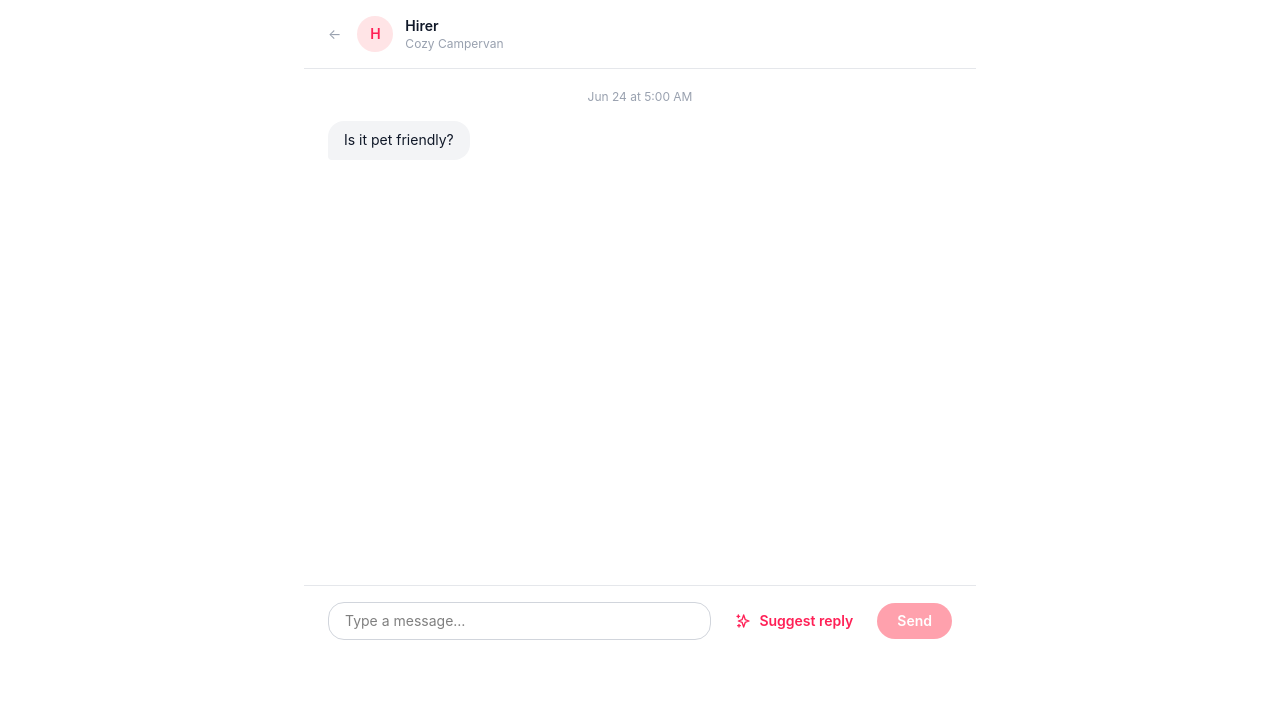
Test case: ChatPage — Suggest reply (owner) › keeps the existing draft and makes no request when the owner cancels the overwrite confirm
The image size is (1280, 720).
Type "my own words" into the text box with placeholder "Type a message…" at (520, 621), box [328,602,711,640]
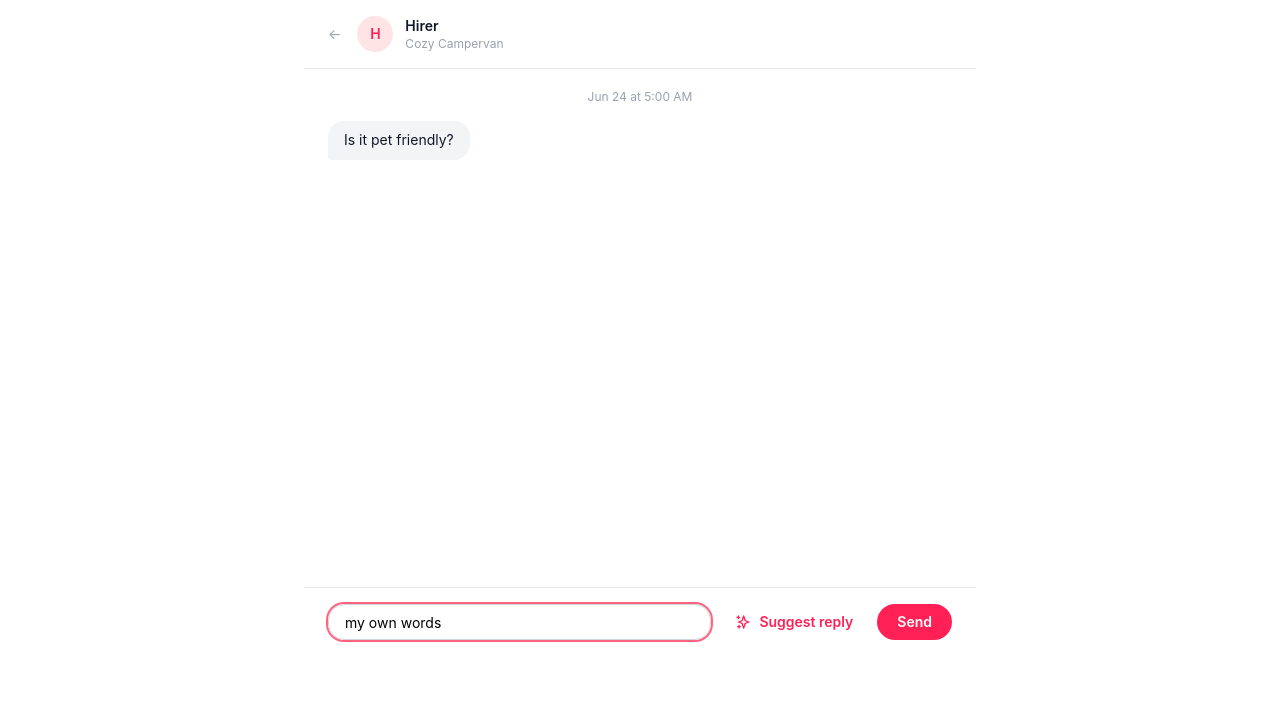
Click the button "Suggest reply" at (794, 622), box [723,604,865,640]
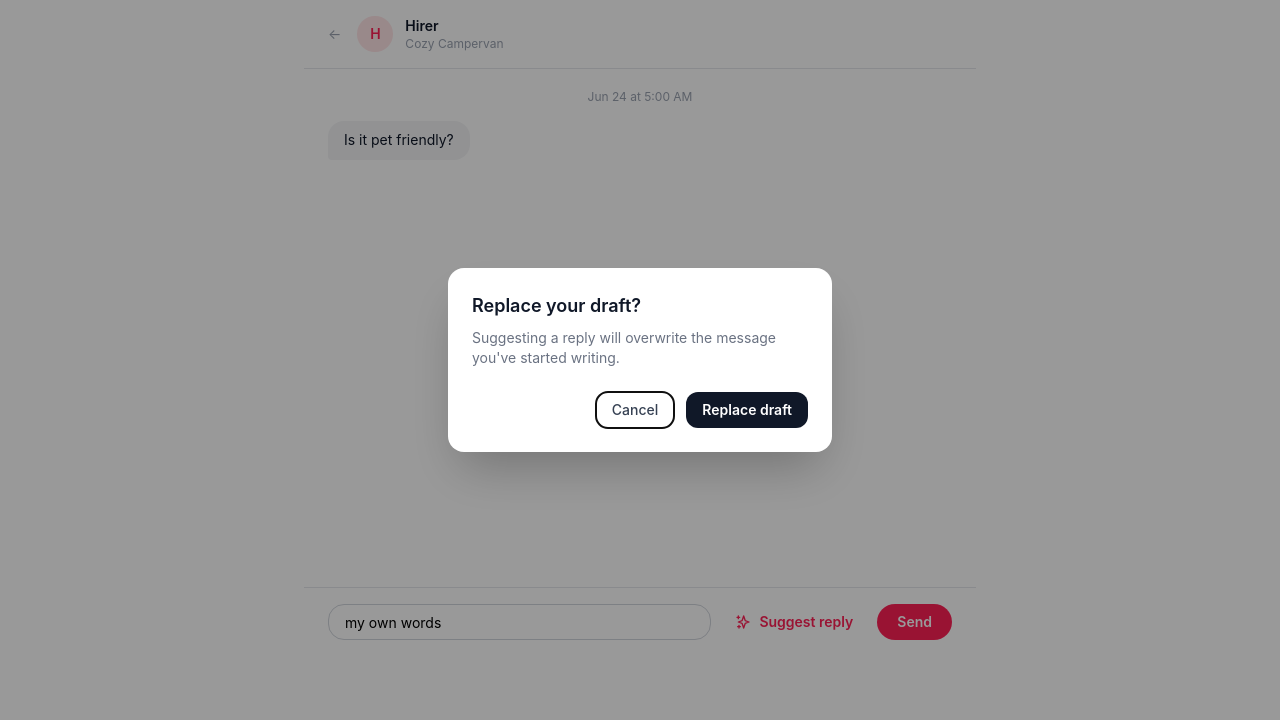
Click the button "Cancel" at (635, 410), box [596,392,674,428]
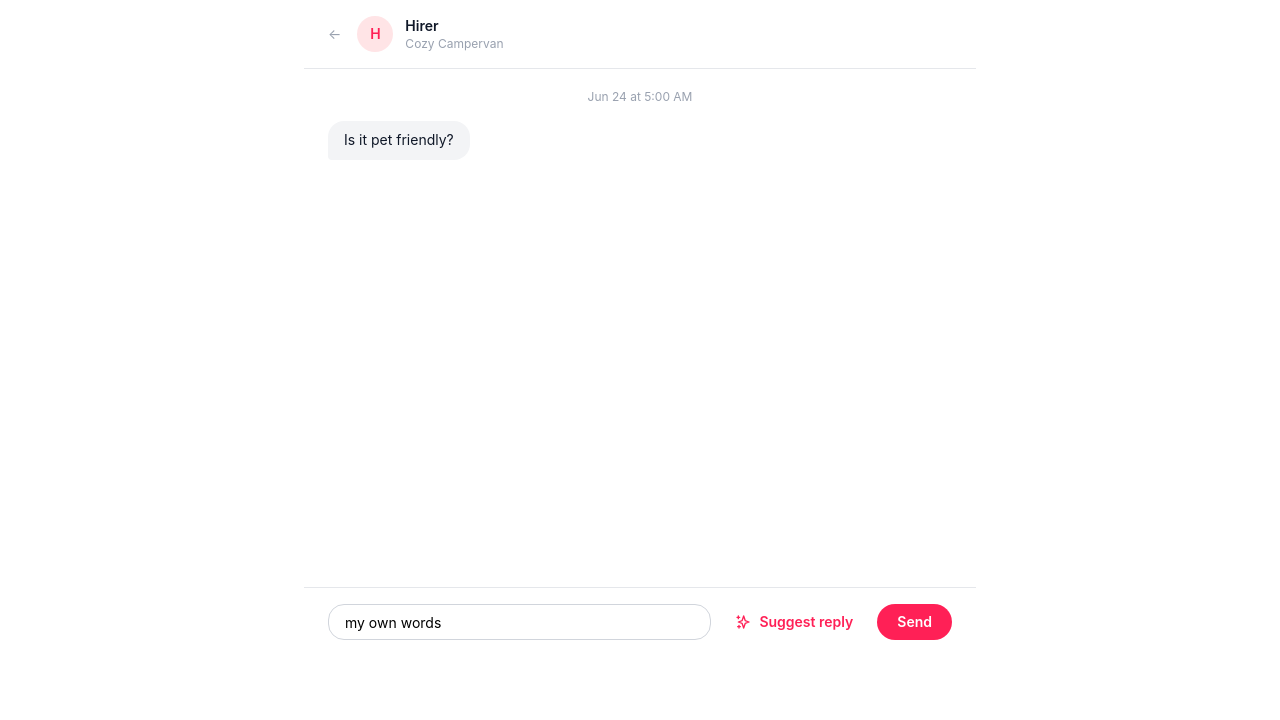
Expected: the dialog is gone
